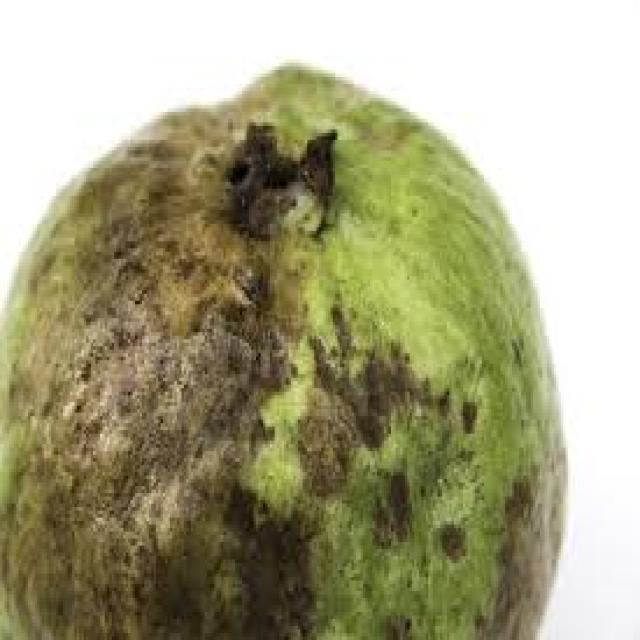Guava: (37, 94, 549, 640)
